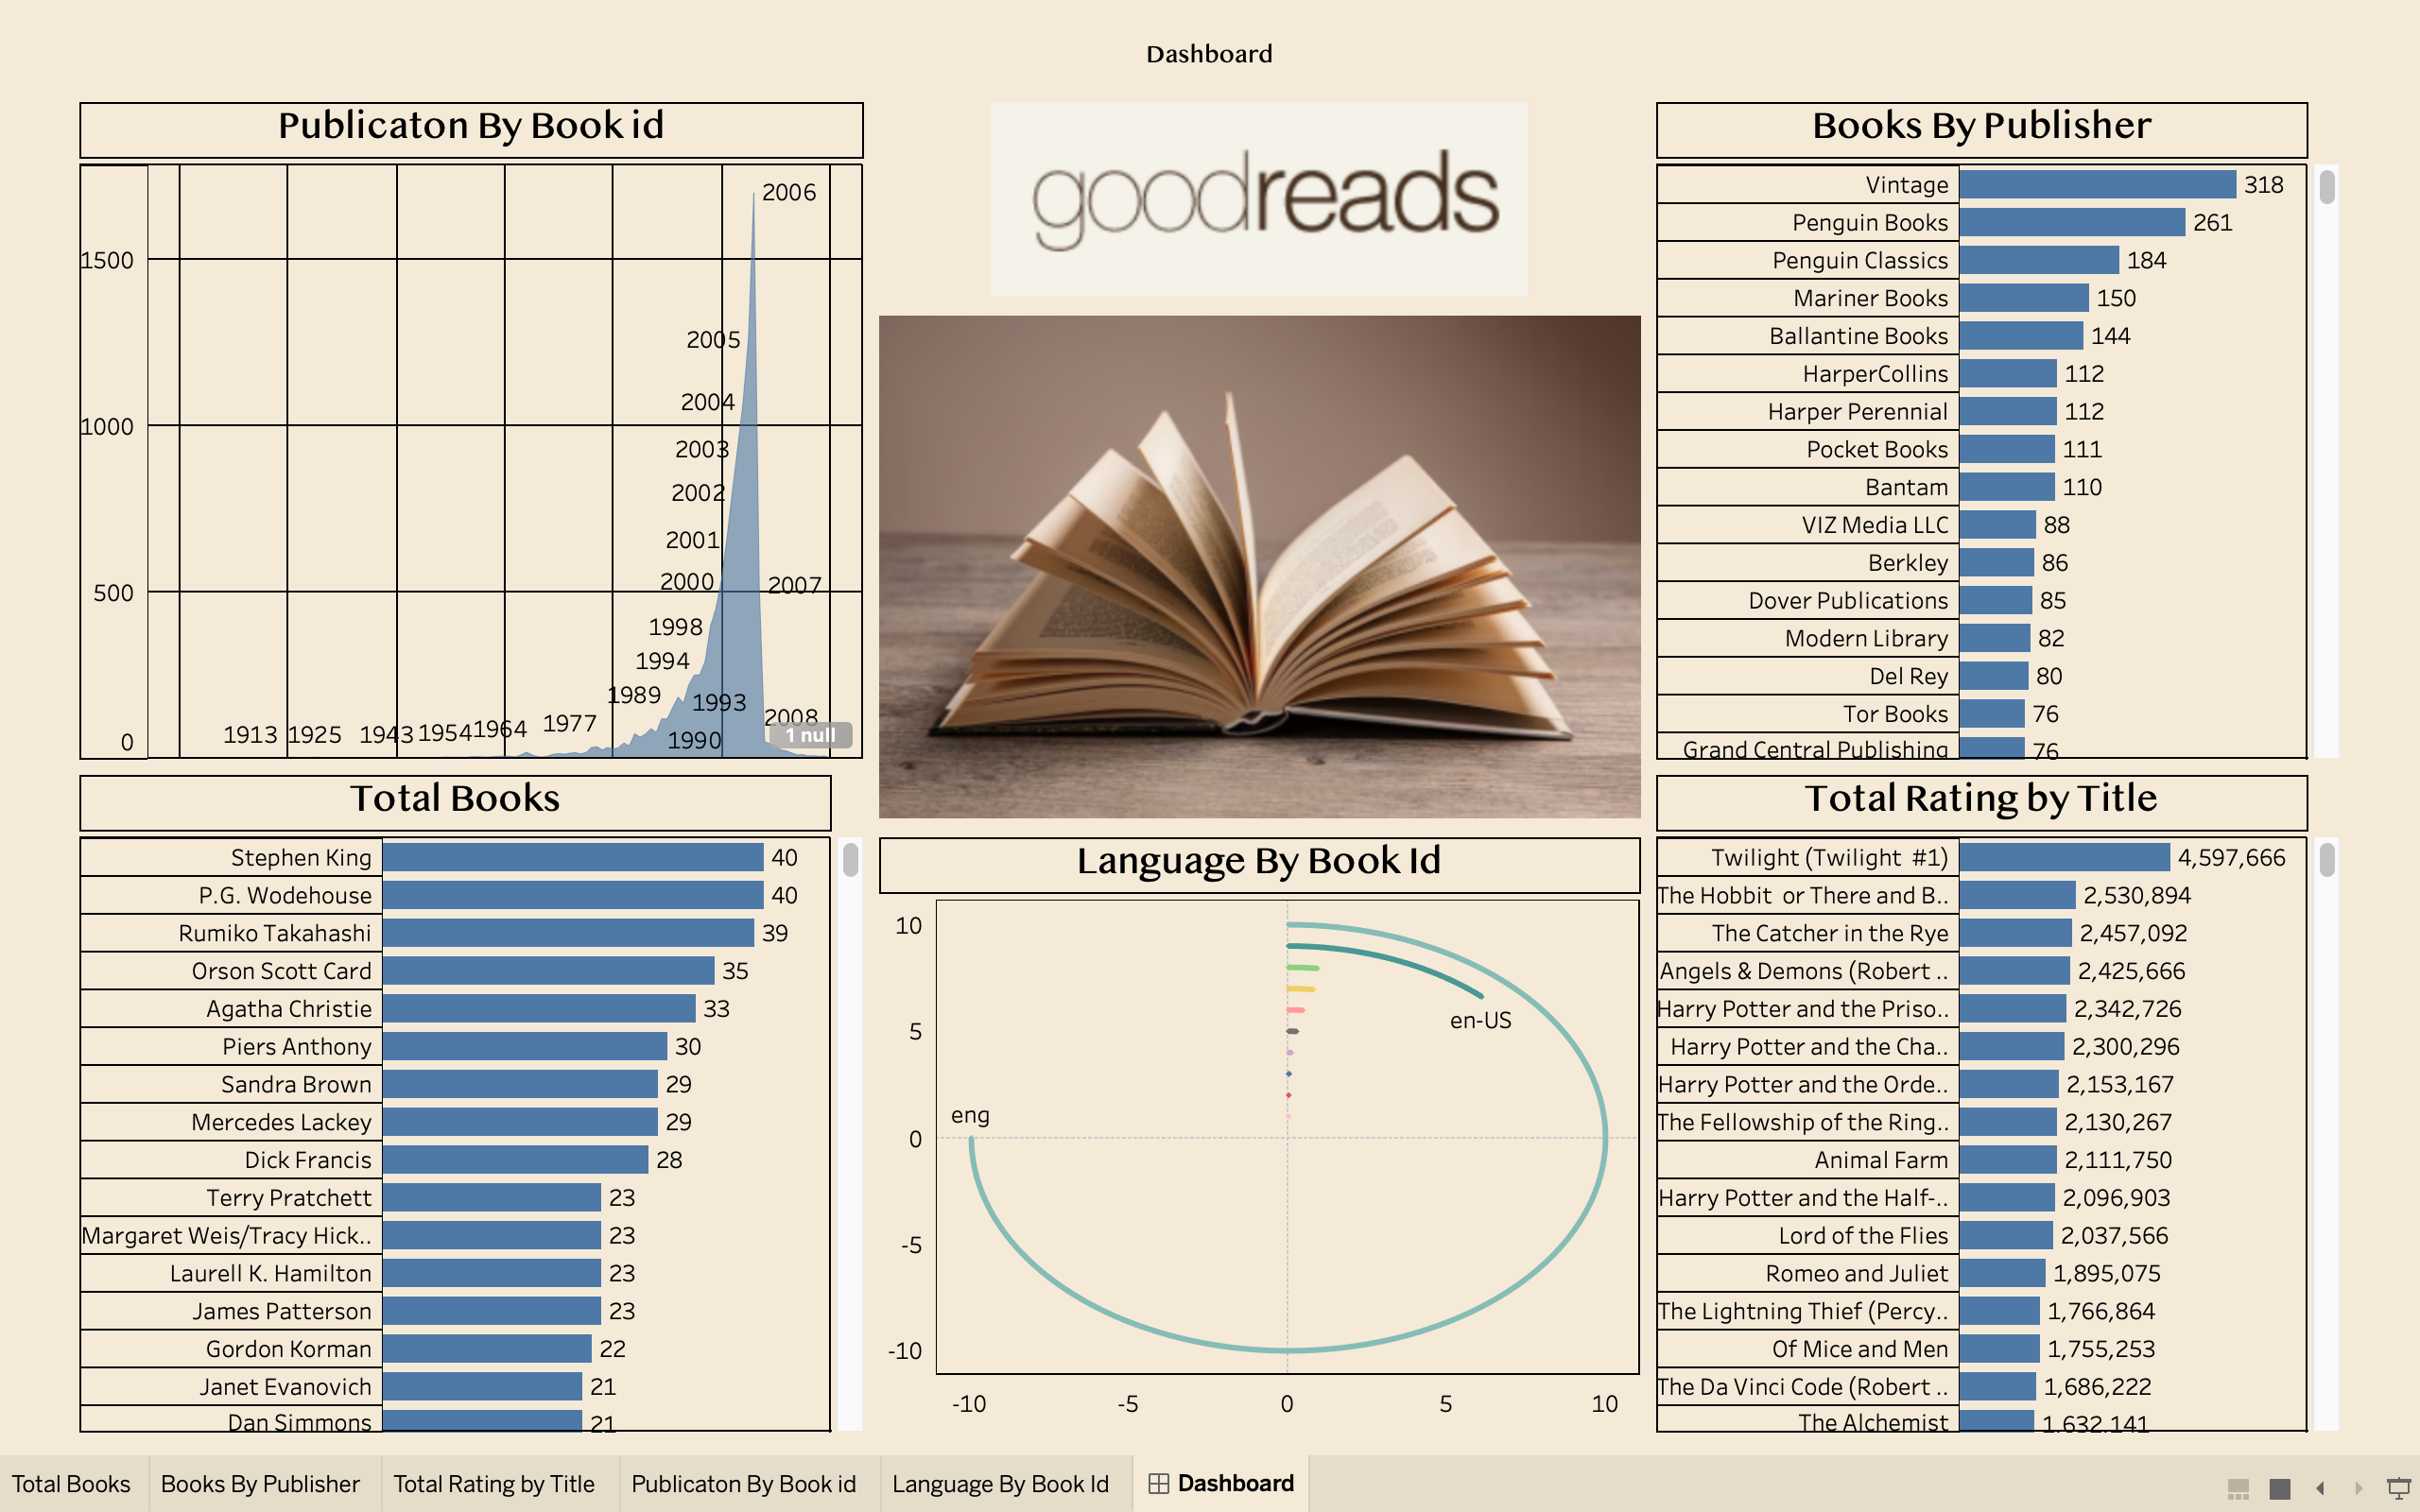

This screenshot's page, from the dashboard's own definition file:
{"tool":"tableau","page":{"name":"Dashboard","canvas":[1000,1000],"units":"permille","ordinal":0},"visuals":[{"type":"text","box":[6.6,13.5,986.9,54]},{"type":"worksheet","title":"Publicaton By Book id","mark":"Area","rows":["bookID"],"cols":["publication_date"],"box":[6.6,67.4,346.7,459.5]},{"type":"image","param":"Image/Capture.PNG","box":[353.3,67.4,336.9,143.3]},{"type":"worksheet","title":"Books By Publisher","mark":"Bar","rows":["publisher"],"cols":["bookID"],"box":[690.1,67.4,303.3,459.5]},{"type":"image","param":"Image/book.PNG","box":[353.3,210.8,336.9,358.4]},{"type":"worksheet","title":"Total Books","mark":"Bar","rows":["authors"],"cols":["bookID"],"box":[6.6,527,346.7,459.5]},{"type":"worksheet","title":"Total Rating by Title","mark":"Bar","rows":["title"],"cols":["Calculation_2630242963420426242"],"box":[690.1,527,303.3,459.5]},{"type":"worksheet","title":"Language By Book Id","mark":"Line","box":[353.3,569.2,336.9,417.3]}]}

Visuals, with their boxes on the dashboard's canvas, which has no fixed pixel size, in thousandths of its width and height (x1, y1, x2, y2). These are canvas units, not pixel positions in the 2420x1512 screenshot, which may show the page scaled, cropped or inside an application window:
text: x1=7 y1=14 x2=994 y2=68
"Publicaton By Book id" worksheet (Area marks): x1=7 y1=67 x2=353 y2=527
image: x1=353 y1=67 x2=690 y2=211
"Books By Publisher" worksheet (Bar marks): x1=690 y1=67 x2=993 y2=527
image: x1=353 y1=211 x2=690 y2=569
"Total Books" worksheet (Bar marks): x1=7 y1=527 x2=353 y2=986
"Total Rating by Title" worksheet (Bar marks): x1=690 y1=527 x2=993 y2=986
"Language By Book Id" worksheet (Line marks): x1=353 y1=569 x2=690 y2=986
